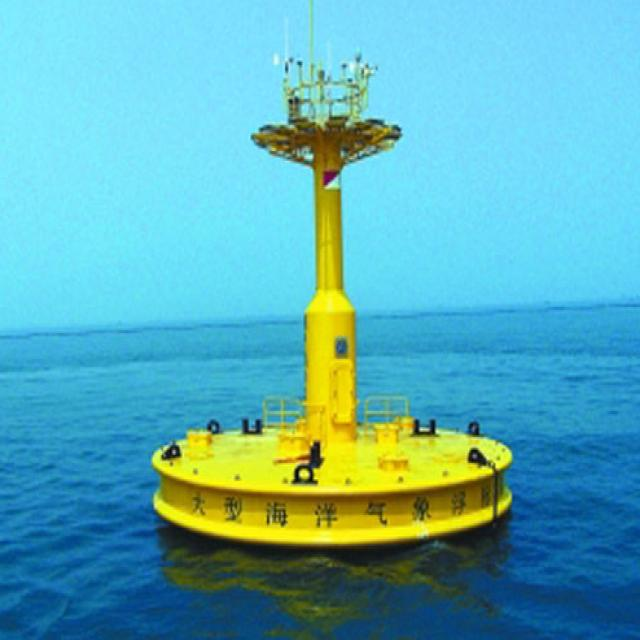buoy: (145, 25, 515, 548)
